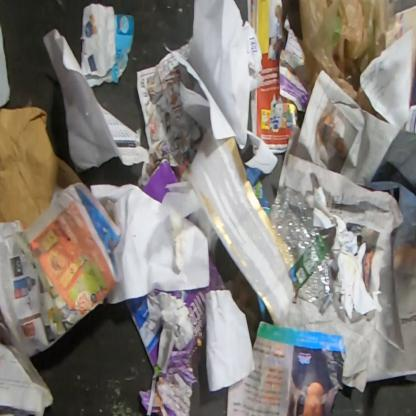cardboard: (163, 244, 227, 371), (124, 293, 162, 369), (141, 160, 181, 206)
rigid_plastic: (269, 187, 333, 315)
soft_plastic: (298, 0, 398, 125)
